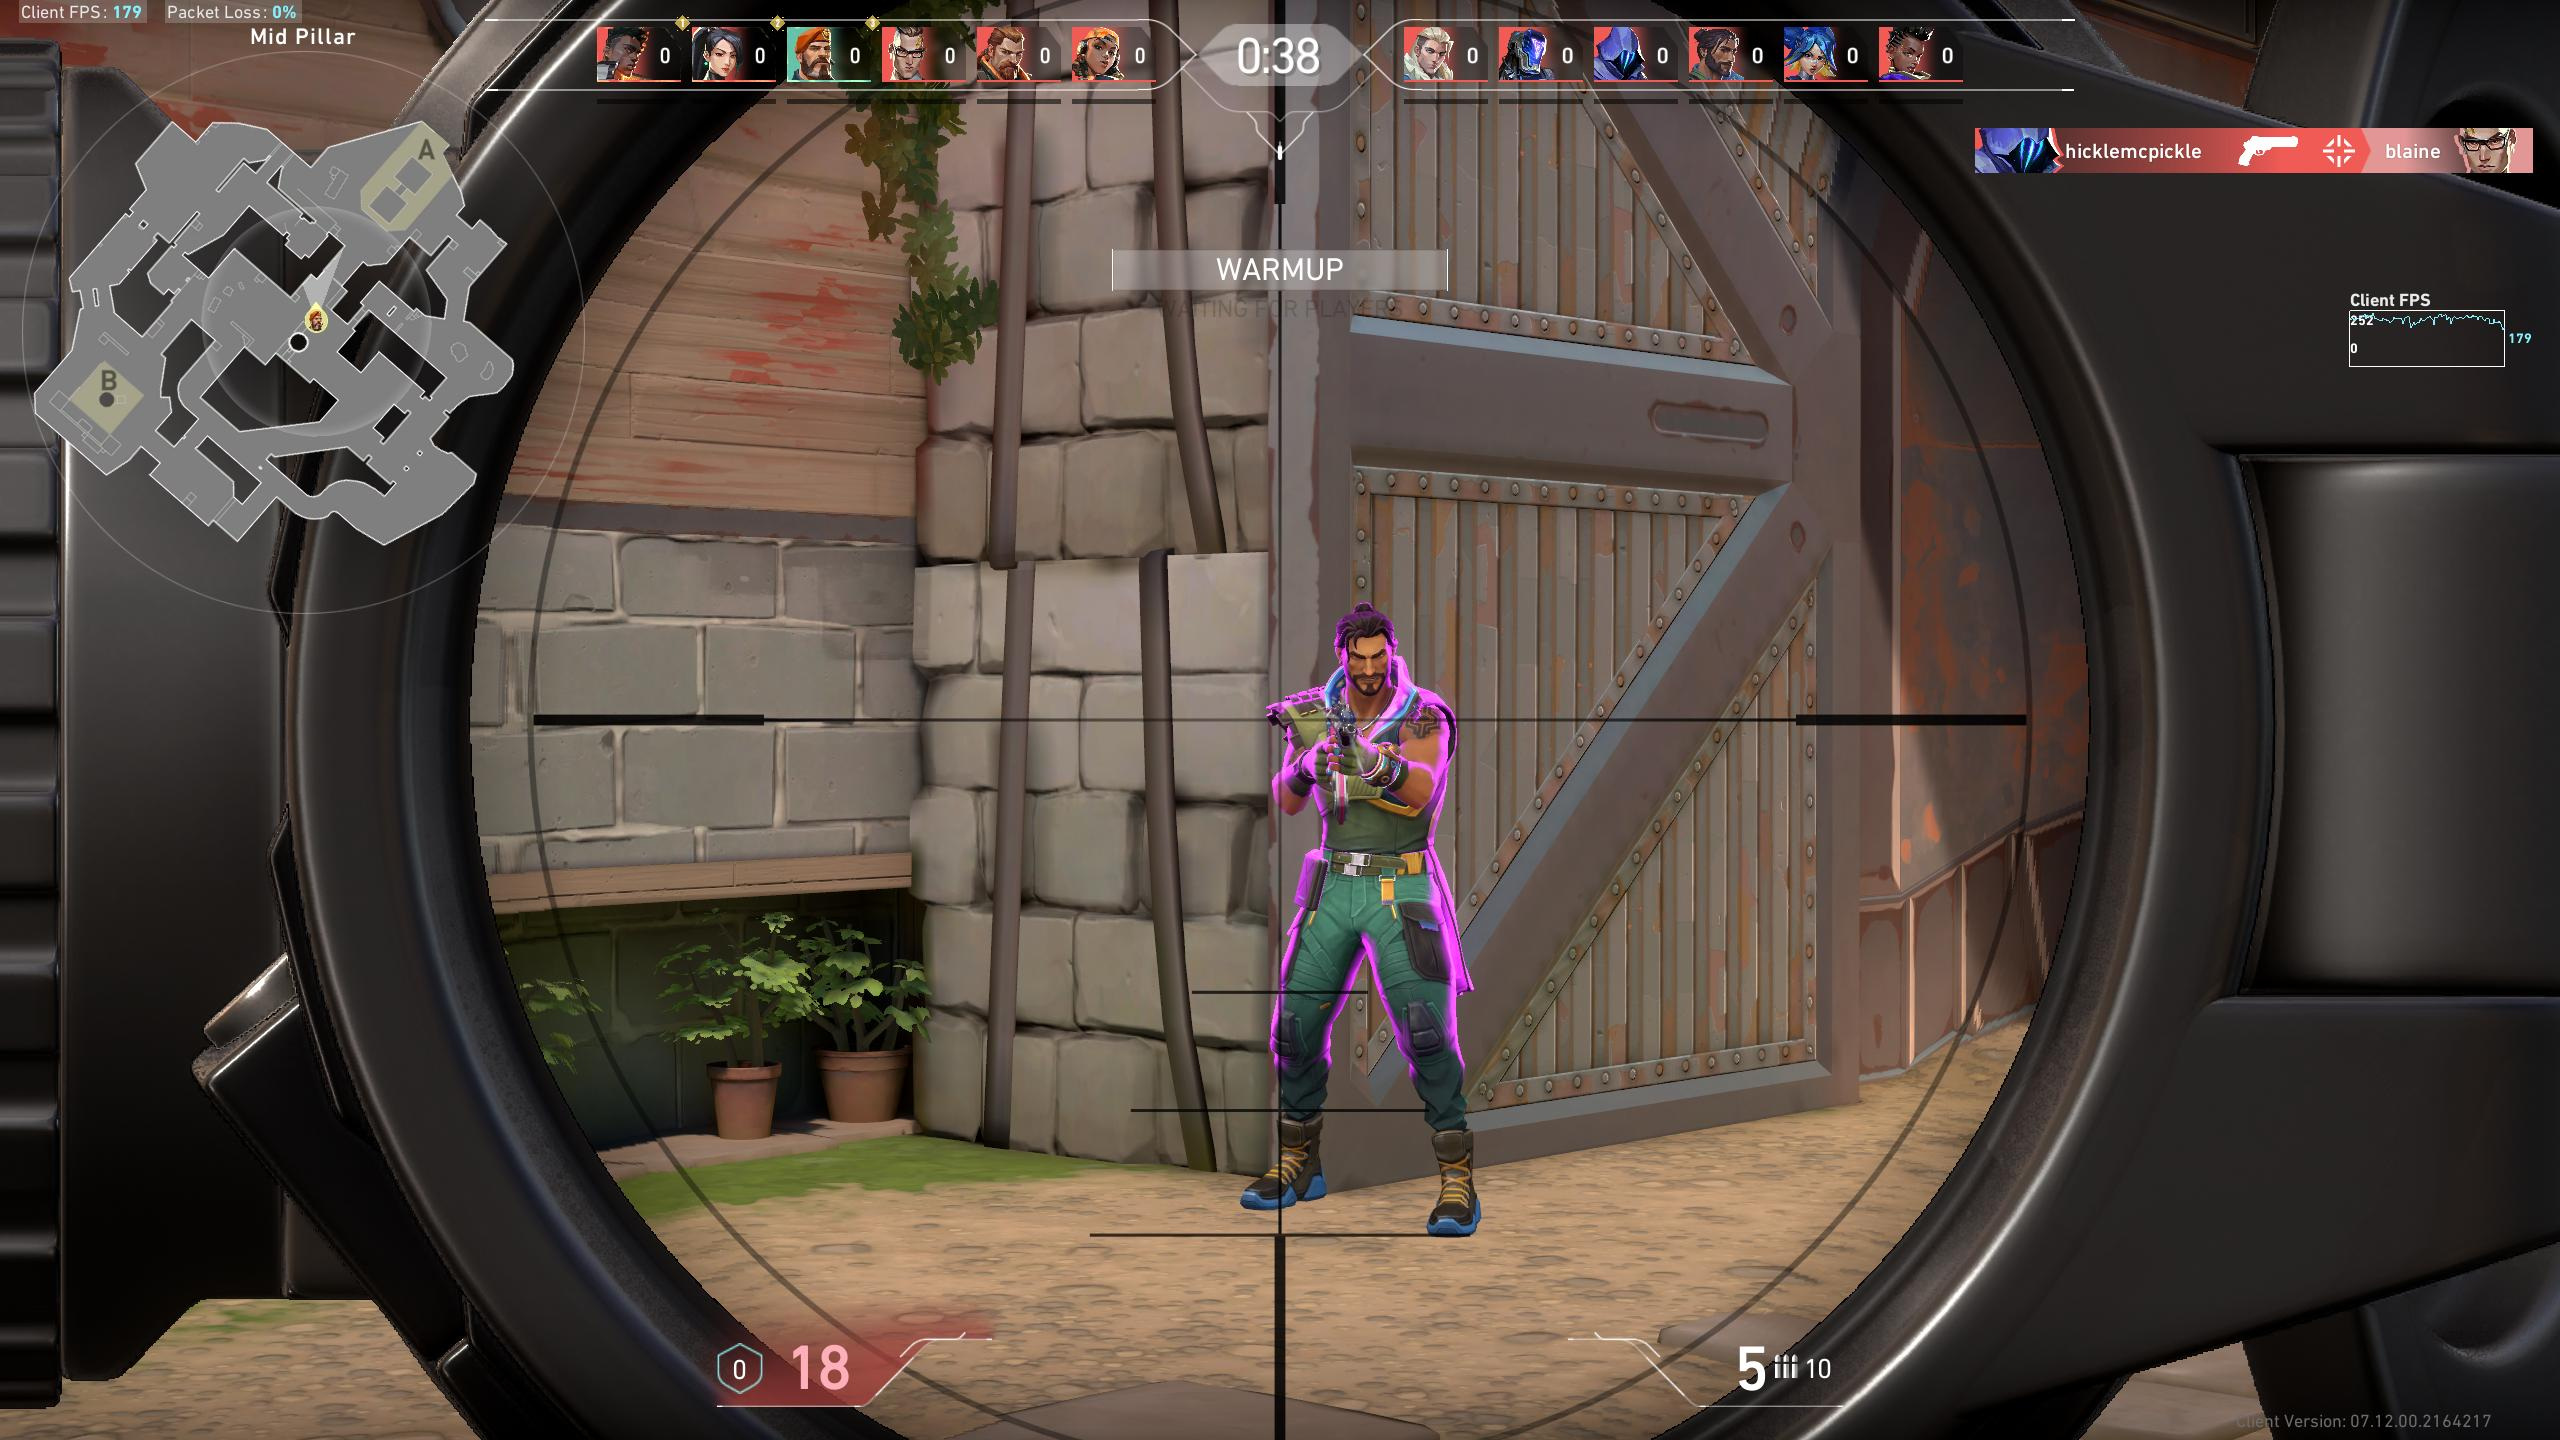enemyBody: (1299, 714, 1452, 863)
enemyHead: (1338, 633, 1407, 705)
